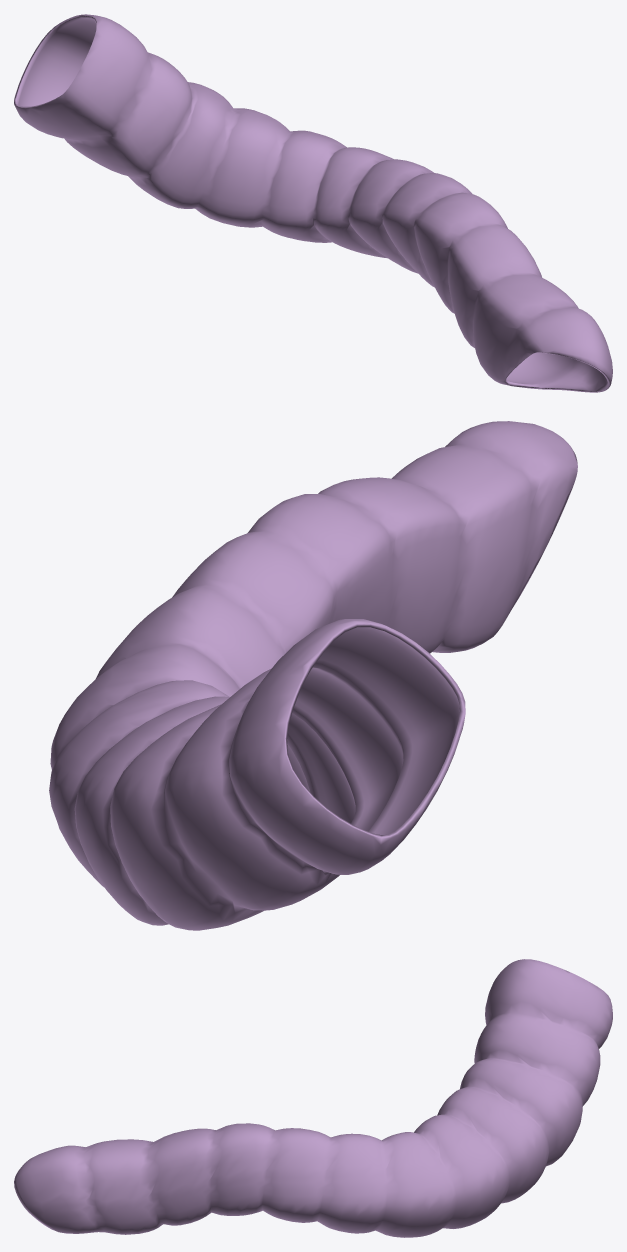
3 renders of one model, top to bottom at view 1: azimuth 30°, elevation 25°; view 2: azimuth 150°, elevation 25°; view 3: azimuth 270°, elevation 25°, orthographic. The views are drawn at different scales.
Parts seen in each view (by area): view 1: 降结肠; view 2: 降结肠; view 3: 降结肠.
Part boxes in pixels (bbox=[...]): 降结肠: bbox=[14, 14, 612, 392]; 降结肠: bbox=[49, 421, 577, 930]; 降结肠: bbox=[14, 959, 612, 1237].
Size of the model in its own units: 0.1953 by 0.1381 by 0.3878.
